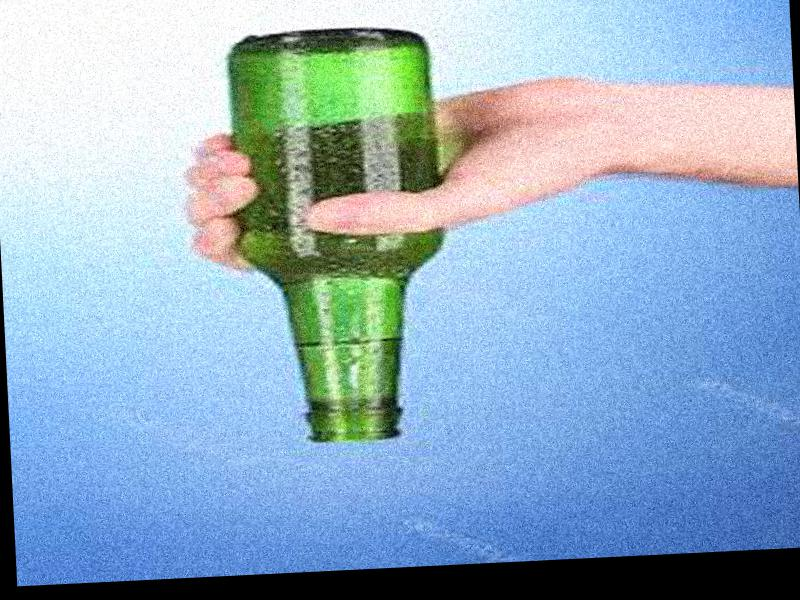Beer: (231, 23, 448, 447)
